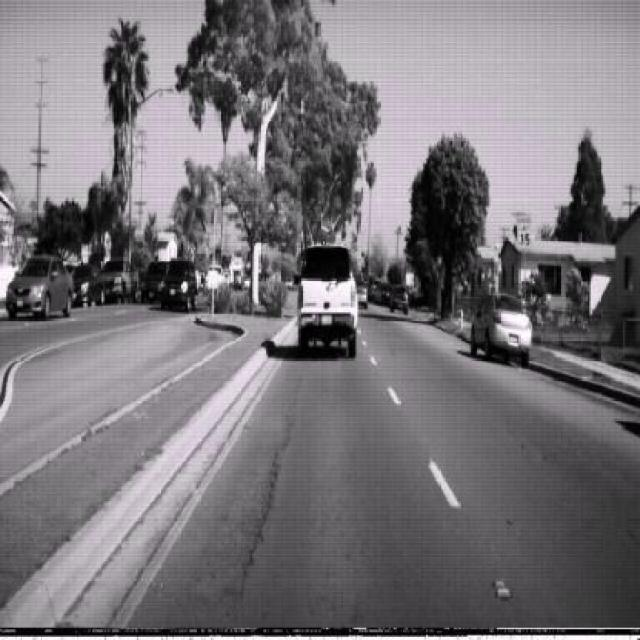speedLimit35: (517, 211, 533, 252)
